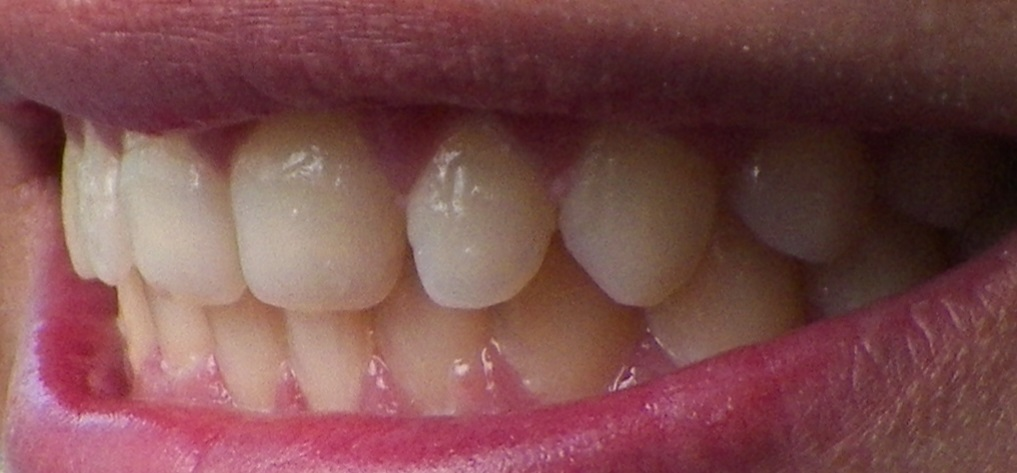boca: (49, 95, 958, 411)
